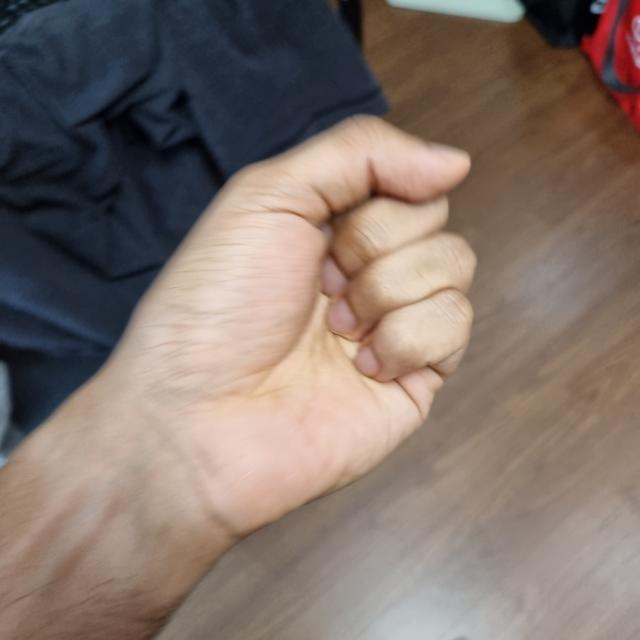Rock: (97, 124, 472, 524)
